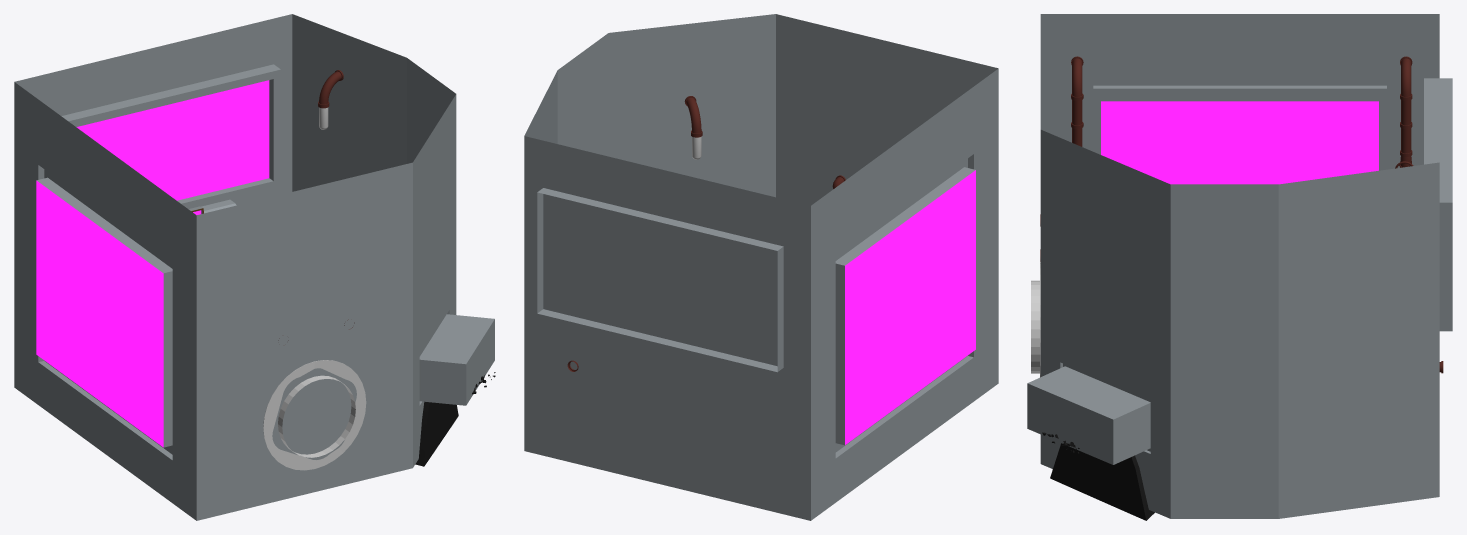
Rendered from Test Room 2.fbx.
3 renders of one model, left to right at view 1: azimuth 30°, elevation 25°; view 2: azimuth 150°, elevation 25°; view 3: azimuth 270°, elevation 25°, orthographic. The views are drawn at different scales.
Parts seen in each view (by area): view 1: Room, Cube.001; view 2: Room, Cube.001; view 3: Room, Cube.001.
Part boxes in pixels (x1,y1,x2,y2): Room: (14, 14, 495, 520); Cube.001: (61, 64, 280, 208); Room: (524, 14, 998, 520); Cube.001: (537, 188, 783, 372); Room: (1027, 14, 1443, 520); Cube.001: (1424, 78, 1452, 331).
Size of the model in its own units: 250 by 221 by 250.
